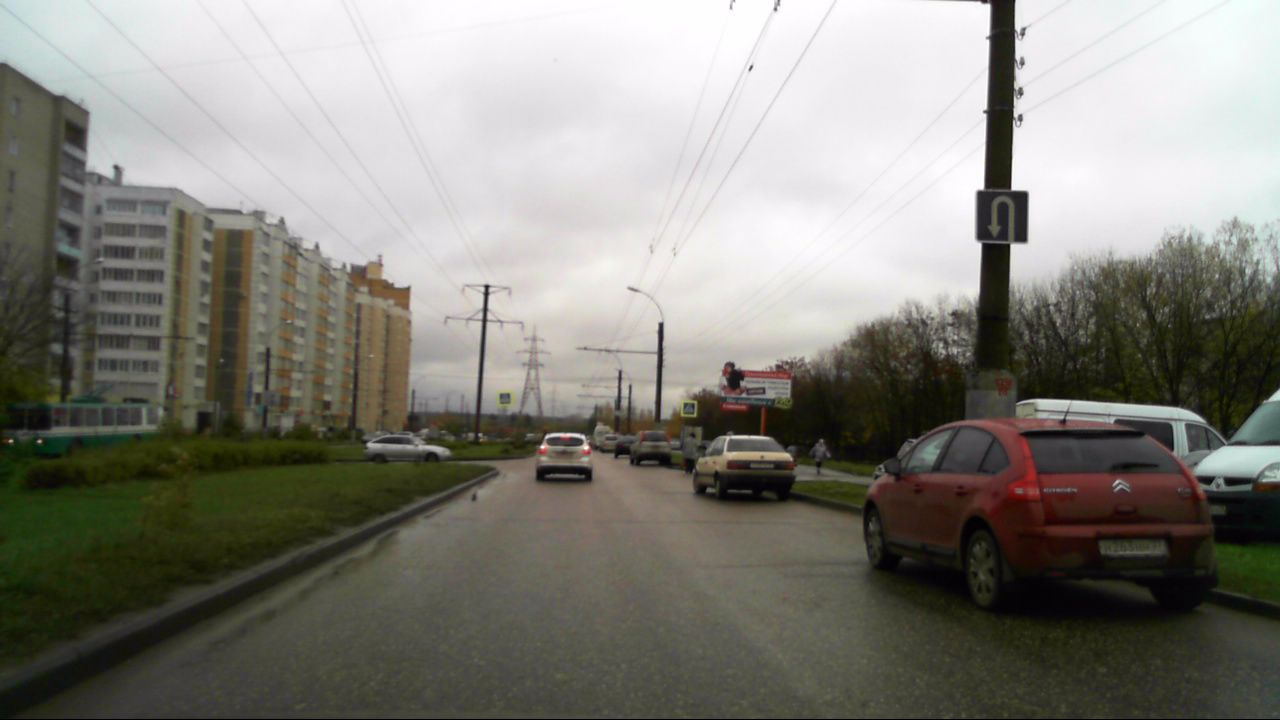U-turn: (977, 191, 1028, 243)
